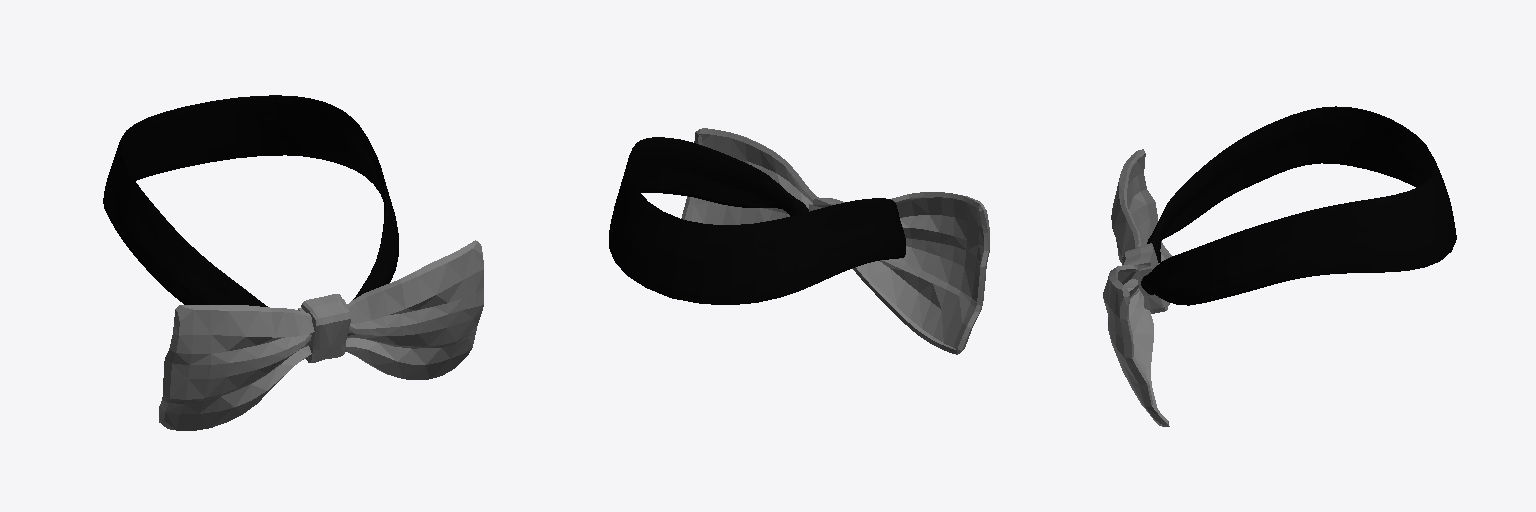
The model's file is Bow_Tie.obj.
3 views of the same model, side by side, from view 1: azimuth 30°, elevation 25°; view 2: azimuth 150°, elevation 25°; view 3: azimuth 270°, elevation 25° (orthographic).
Visible parts, largest first — view 1: polySurface40; view 2: polySurface40; view 3: polySurface40.
Boxes of the visible parts, <box> form: polySurface40: <box>103,95,483,430</box>; polySurface40: <box>609,128,989,354</box>; polySurface40: <box>1103,106,1456,426</box>.
Bounding box in the file's own units: 16.61 × 10.67 × 16.52.